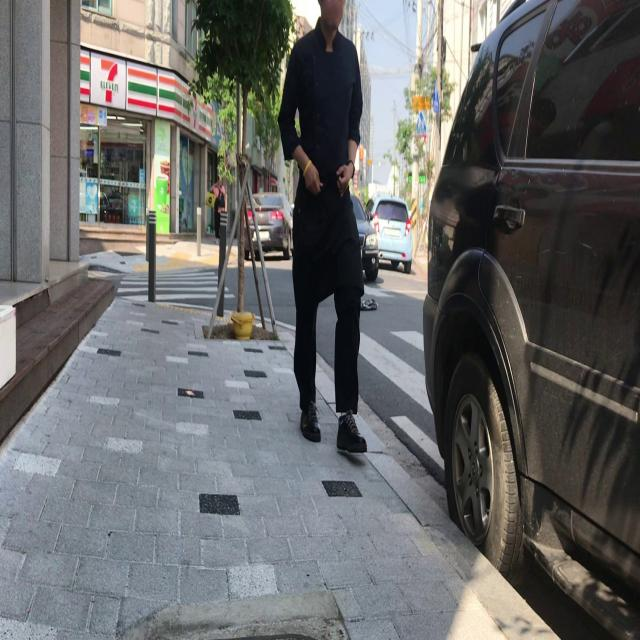횡단보도: (116, 268, 236, 304)
